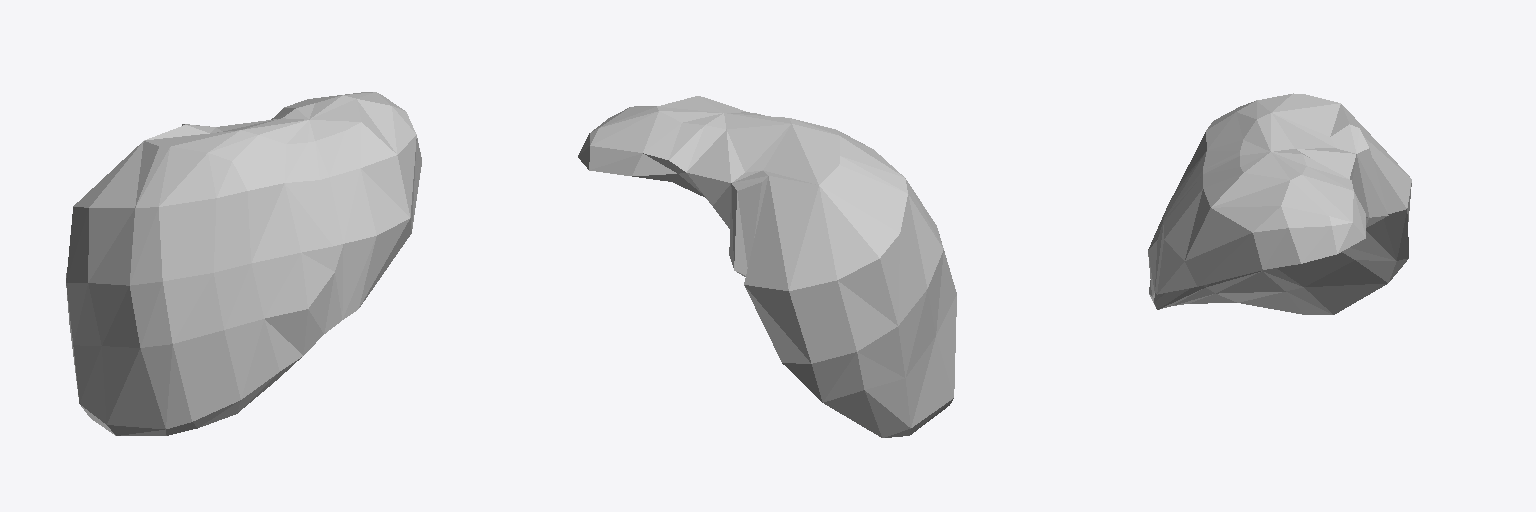
The model's file is foie_GF_avec_pointe1.obj.
3 renders of one model, left to right at view 1: azimuth 30°, elevation 25°; view 2: azimuth 150°, elevation 25°; view 3: azimuth 270°, elevation 25°, orthographic.
Parts seen in each view (by area): view 1: 1_Visual; view 2: 1_Visual; view 3: 1_Visual.
Boxes of the visible parts, box(x1,y1,x2,y2) form: 1_Visual: box(66, 92, 421, 435); 1_Visual: box(578, 96, 956, 437); 1_Visual: box(1148, 93, 1411, 314).
Size of the model in its own units: 6.48 by 4.94 by 4.42.